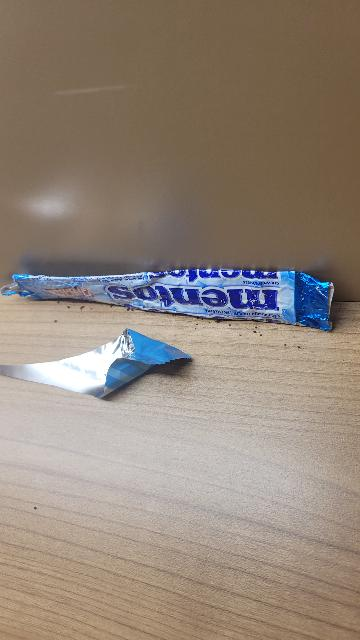Kagit: (4, 256, 360, 330)
